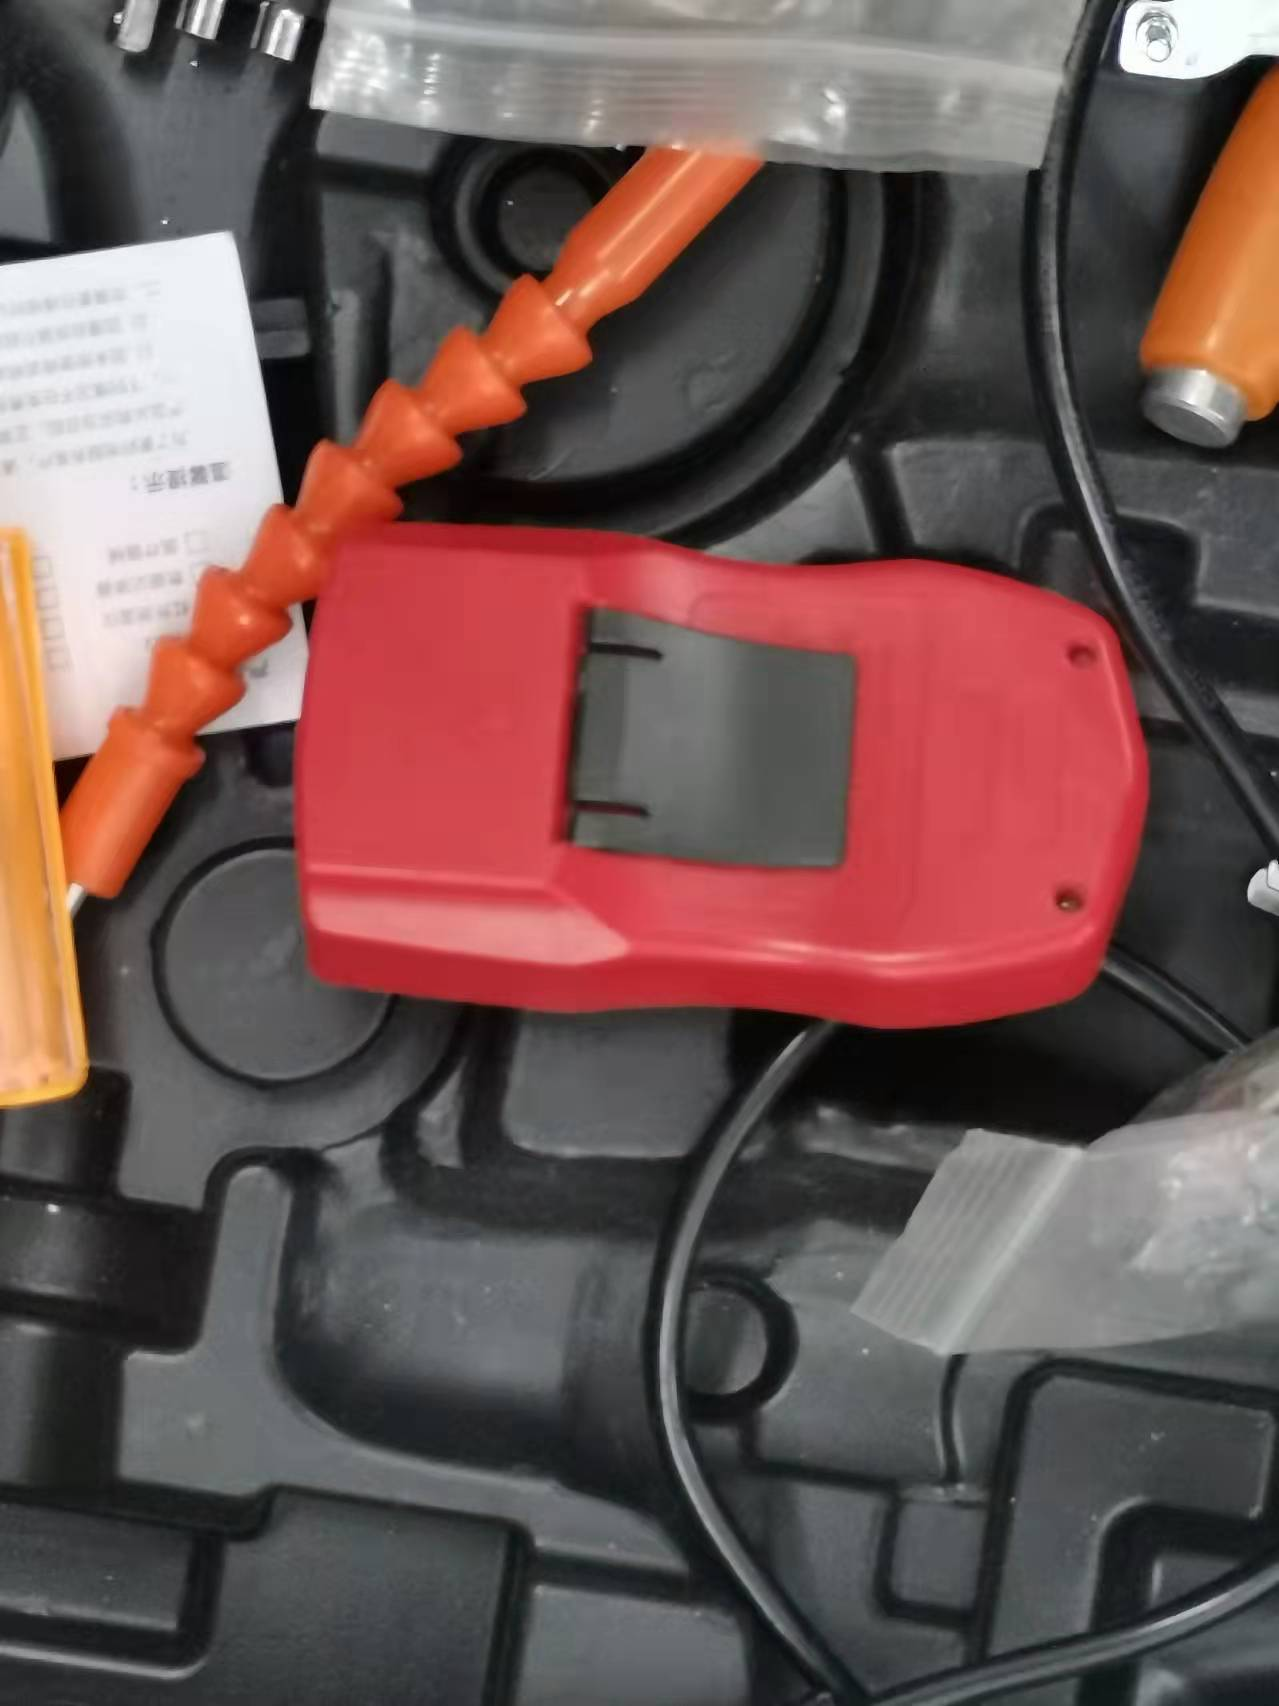Multimeter: (290, 519, 1143, 1028)
Screw holes: (1059, 638, 1102, 674), (1056, 887, 1092, 922)
